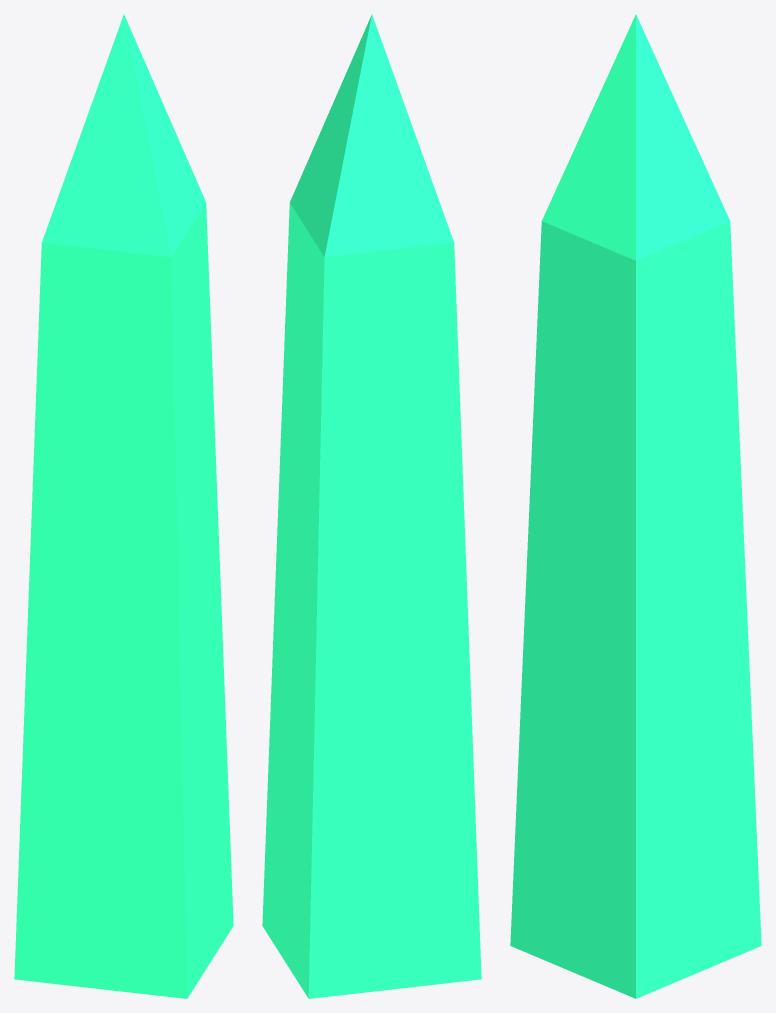
Rendered from esmeralda.glb.
The picture shows the model from 3 angles, left to right: view 1: azimuth 30°, elevation 25°; view 2: azimuth 150°, elevation 25°; view 3: azimuth 270°, elevation 25°; orthographic projection.
Visible parts, largest first — view 1: GEM_03_TetragonalSpire; view 2: GEM_03_TetragonalSpire; view 3: GEM_03_TetragonalSpire.
Part boxes in pixels (<box>): GEM_03_TetragonalSpire: <box>14,14,233,998</box>; GEM_03_TetragonalSpire: <box>262,14,481,998</box>; GEM_03_TetragonalSpire: <box>510,14,761,998</box>.
Size of the model in its own units: 0.4399 by 1.8 by 0.4399.
